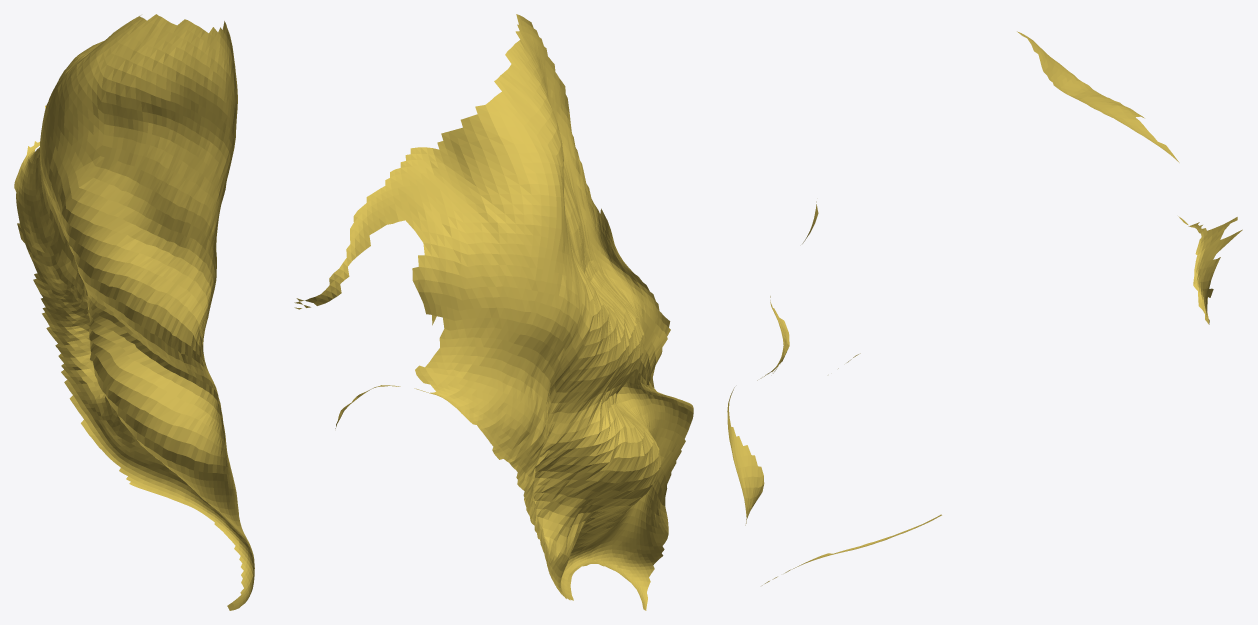
File: lh_insula.glb
3 renders of one model, left to right at view 1: azimuth 30°, elevation 25°; view 2: azimuth 150°, elevation 25°; view 3: azimuth 270°, elevation 25°, orthographic. The views are drawn at different scales.
Visible parts, largest first — view 1: world; view 2: world; view 3: world.
Part boxes in pixels (x1=…): world: x1=14, y1=14, x2=254, y2=610; world: x1=294, y1=14, x2=693, y2=610; world: x1=727, y1=31, x2=1242, y2=585.
Size of the model in its own units: 20.37 by 58.64 by 44.18.
